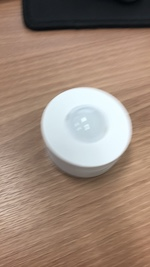bulb: (40, 87, 132, 178)
